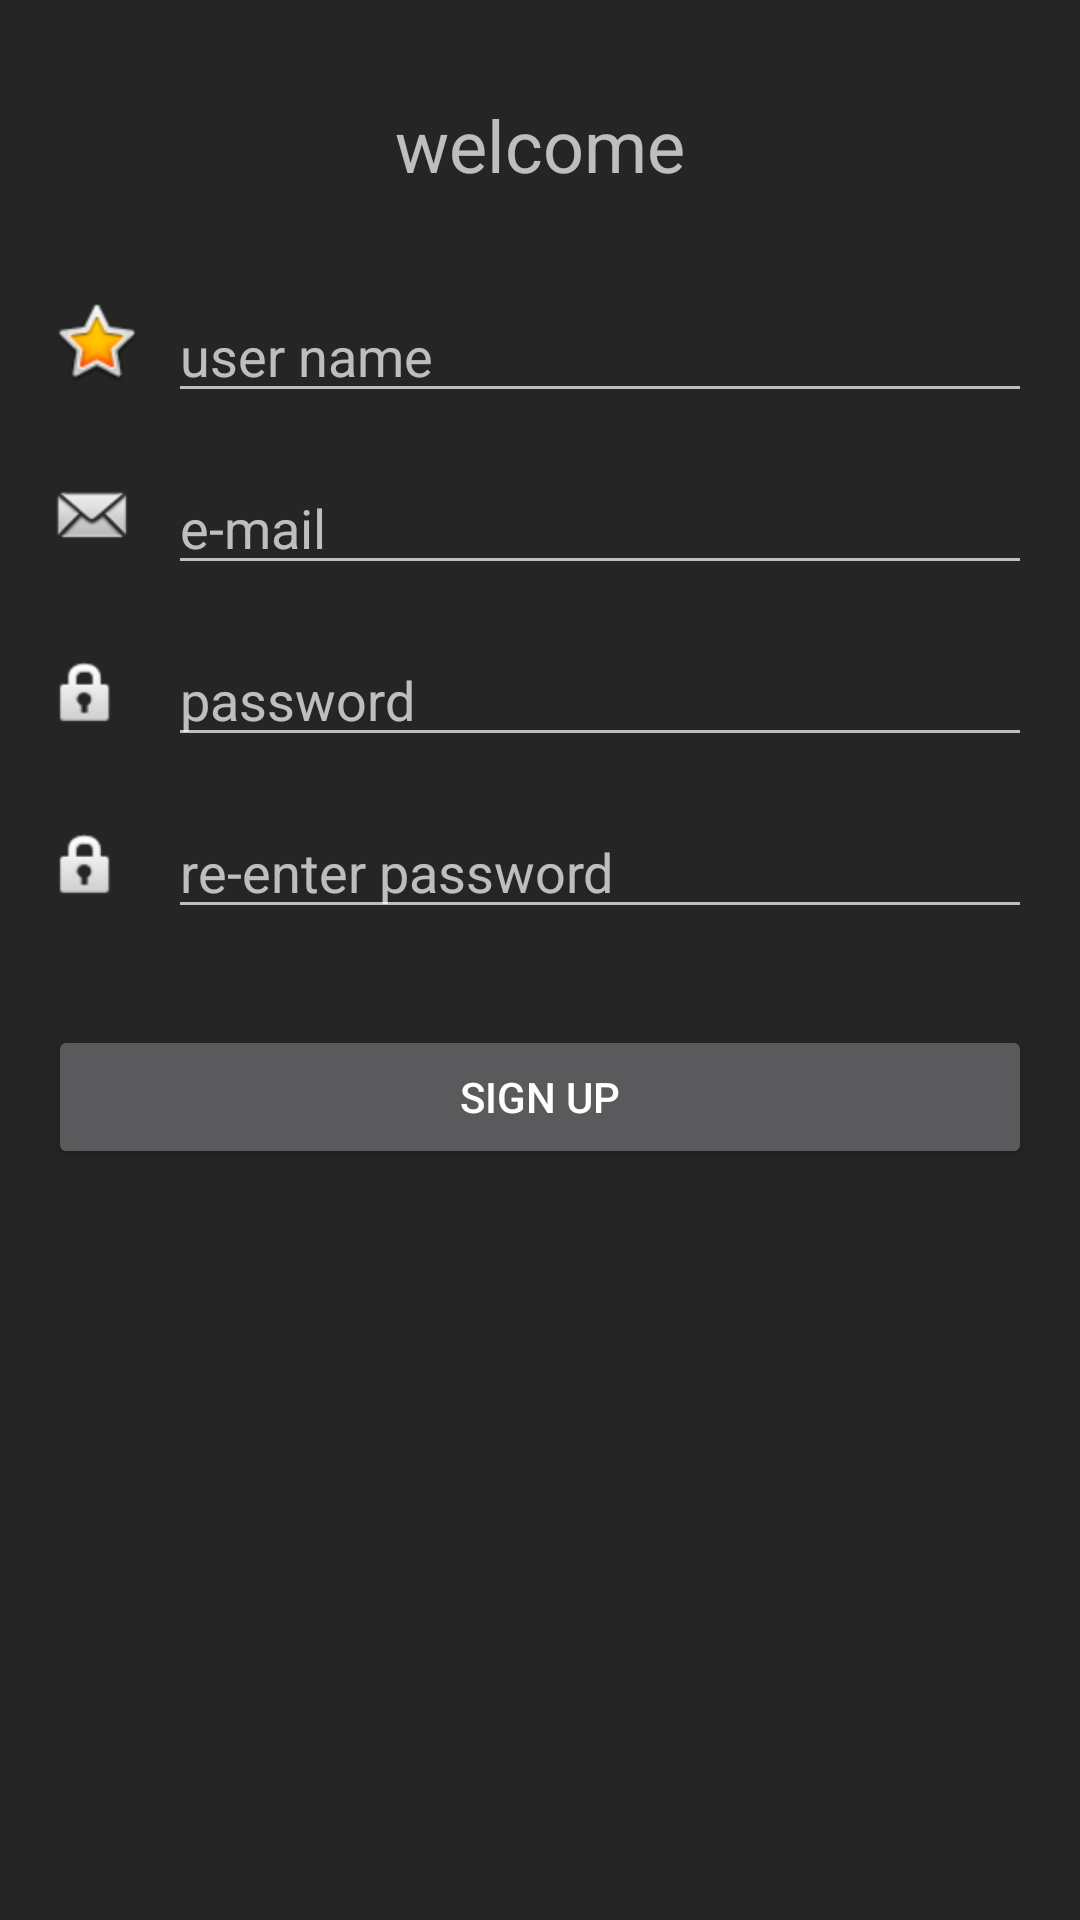

Locate icon controls on the screen. Image size 1080*1920, boxes as (x1, y1, x2, y2).
lock idle: (59, 662, 110, 721), (59, 834, 110, 893)
star on: (59, 304, 135, 377)
